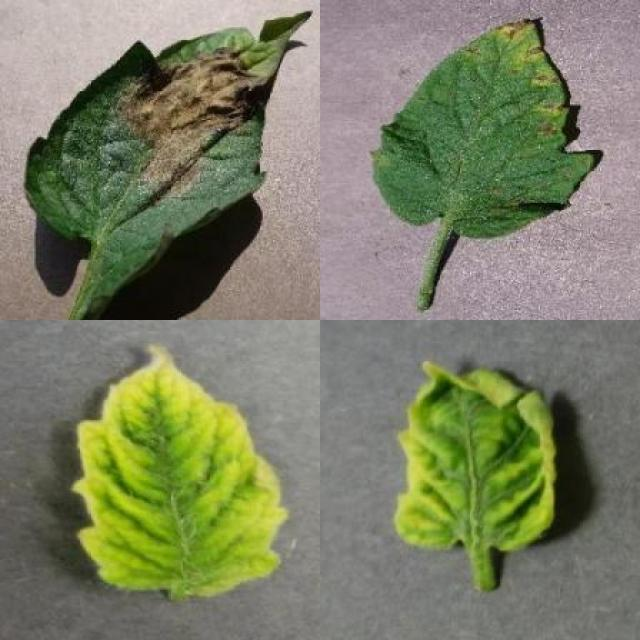Late Blight: (21, 10, 312, 320)
Septoria: (372, 20, 595, 243)
Yellow Leaf Curl Virus: (73, 344, 290, 599), (392, 360, 558, 553)
